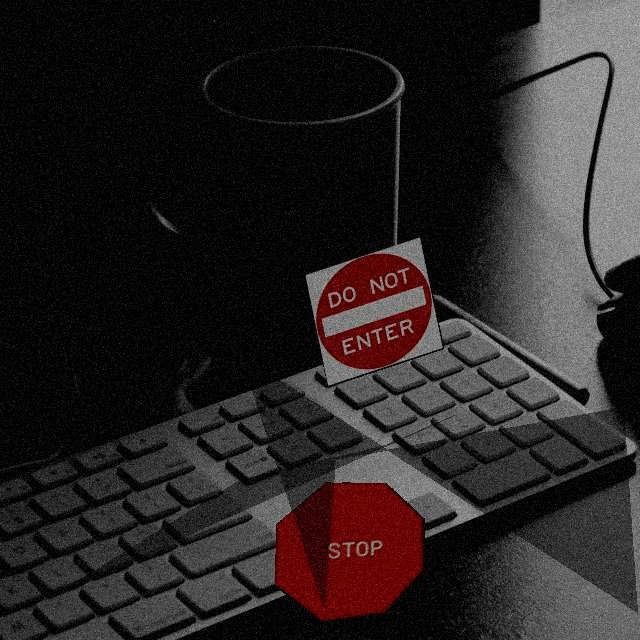DO_NOT_ENTER: (304, 236, 444, 387)
STOP: (274, 482, 425, 623)
